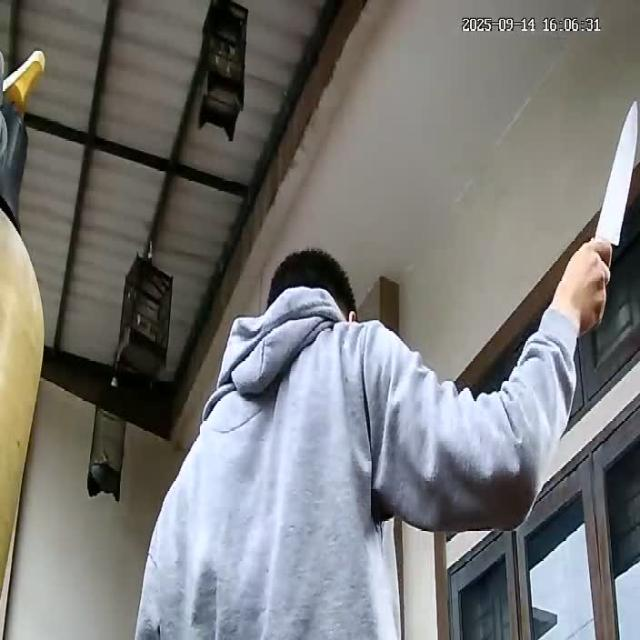senjata_tajam: (592, 96, 638, 246)
